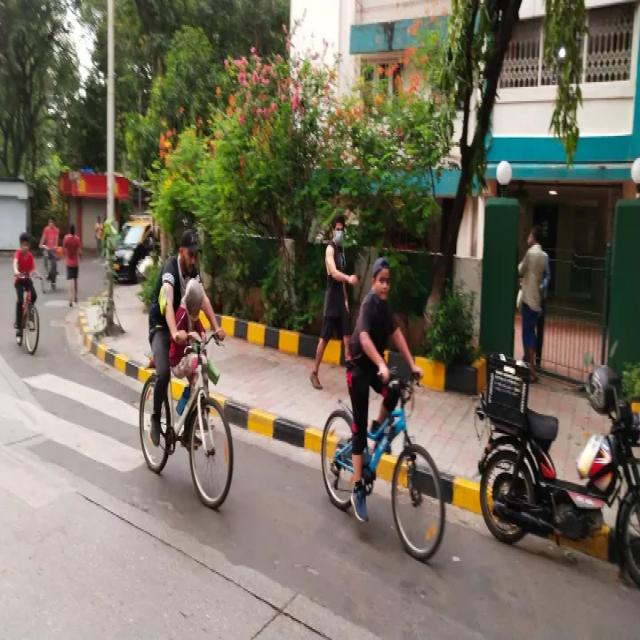bicycle: (321, 258, 444, 560), (140, 229, 232, 508)
motorcycle: (479, 356, 640, 583)
